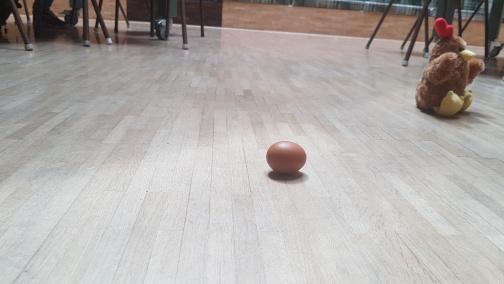chicken: (414, 16, 488, 118)
egg: (265, 140, 308, 177)
